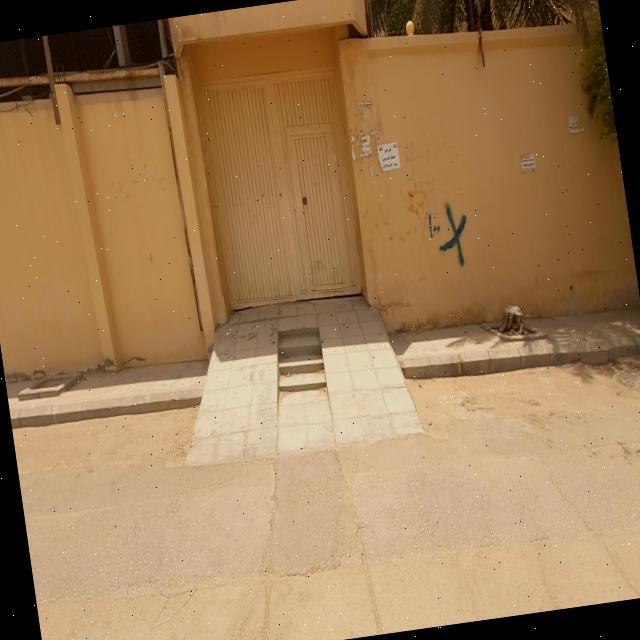Graffiti: (425, 198, 475, 273)
